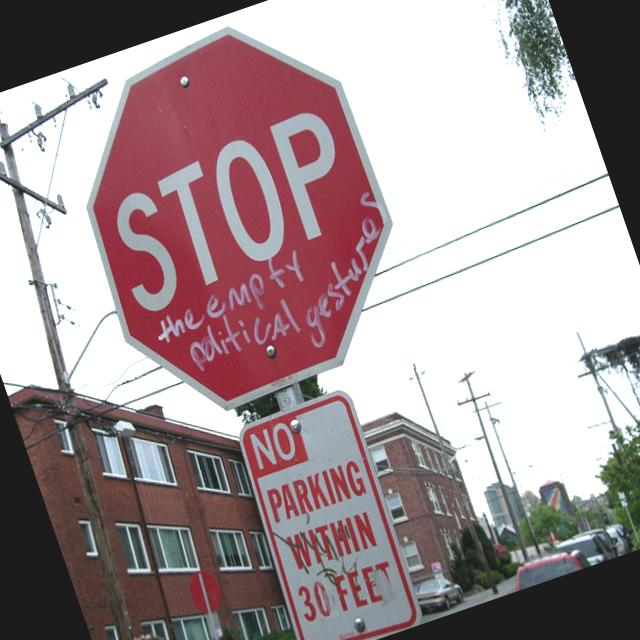Vehicle: (501, 536, 604, 593), (555, 522, 624, 574), (412, 570, 466, 618), (573, 520, 621, 567), (608, 521, 634, 556), (606, 523, 630, 557)
